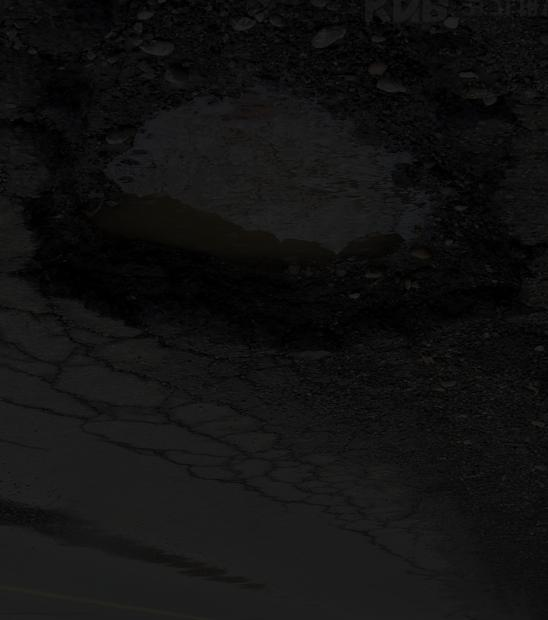pothole: (15, 30, 548, 375)
